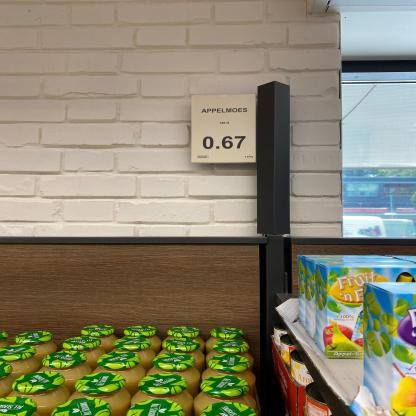prtg: (192, 95, 257, 164)
